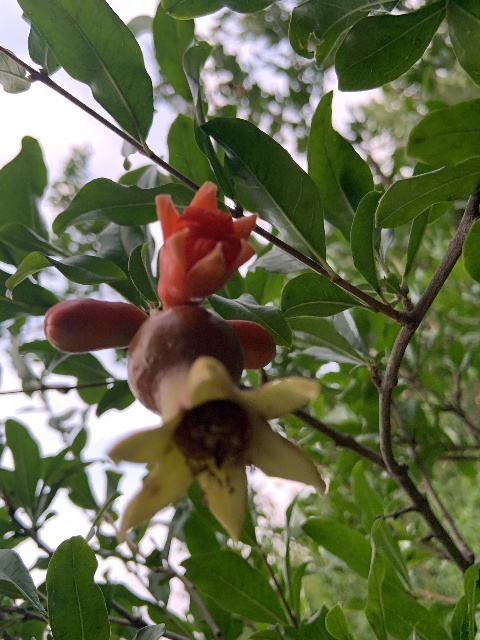bud: (43, 296, 143, 353), (227, 318, 275, 368)
early-fruit: (106, 305, 326, 550)
flower: (155, 181, 257, 307)
